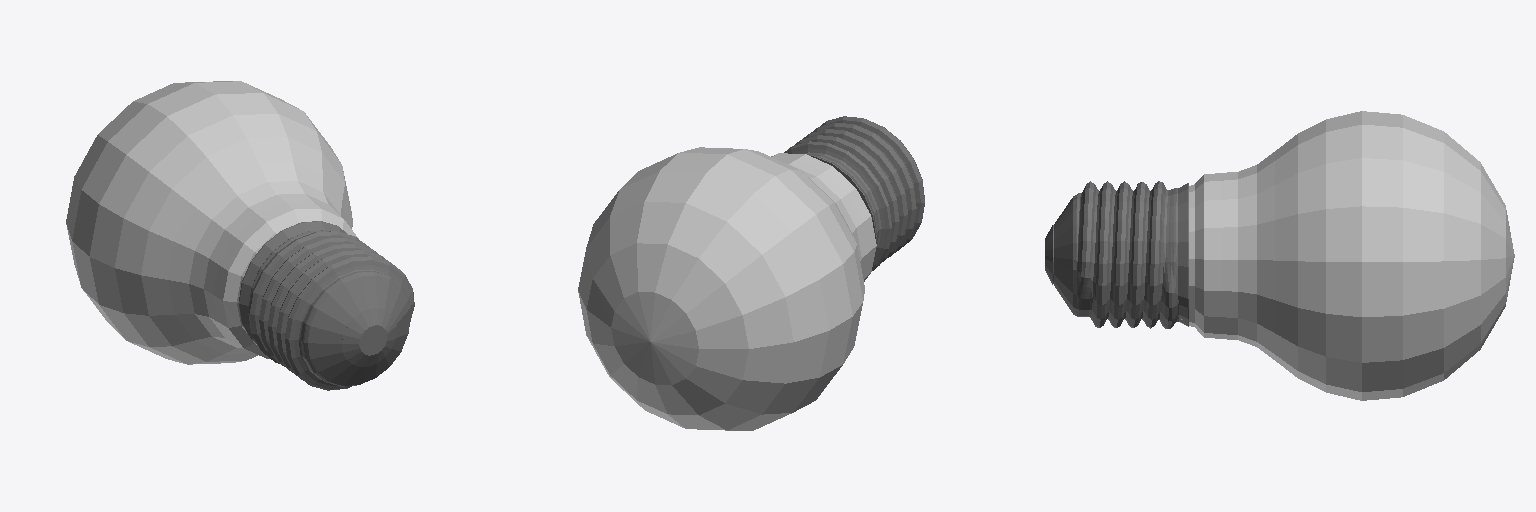
File: Light.obj
3 views of the same model, side by side, from view 1: azimuth 30°, elevation 25°; view 2: azimuth 150°, elevation 25°; view 3: azimuth 270°, elevation 25° (orthographic).
Visible parts, largest first — view 1: Bulb blend_root; view 2: Bulb blend_root; view 3: Bulb blend_root.
Boxes of the visible parts, <box> form: Bulb blend_root: <box>66,81,414,390</box>; Bulb blend_root: <box>578,116,924,430</box>; Bulb blend_root: <box>1045,111,1514,400</box>.
Size of the model in its own units: 0.0294 by 0.0294 by 0.0476.